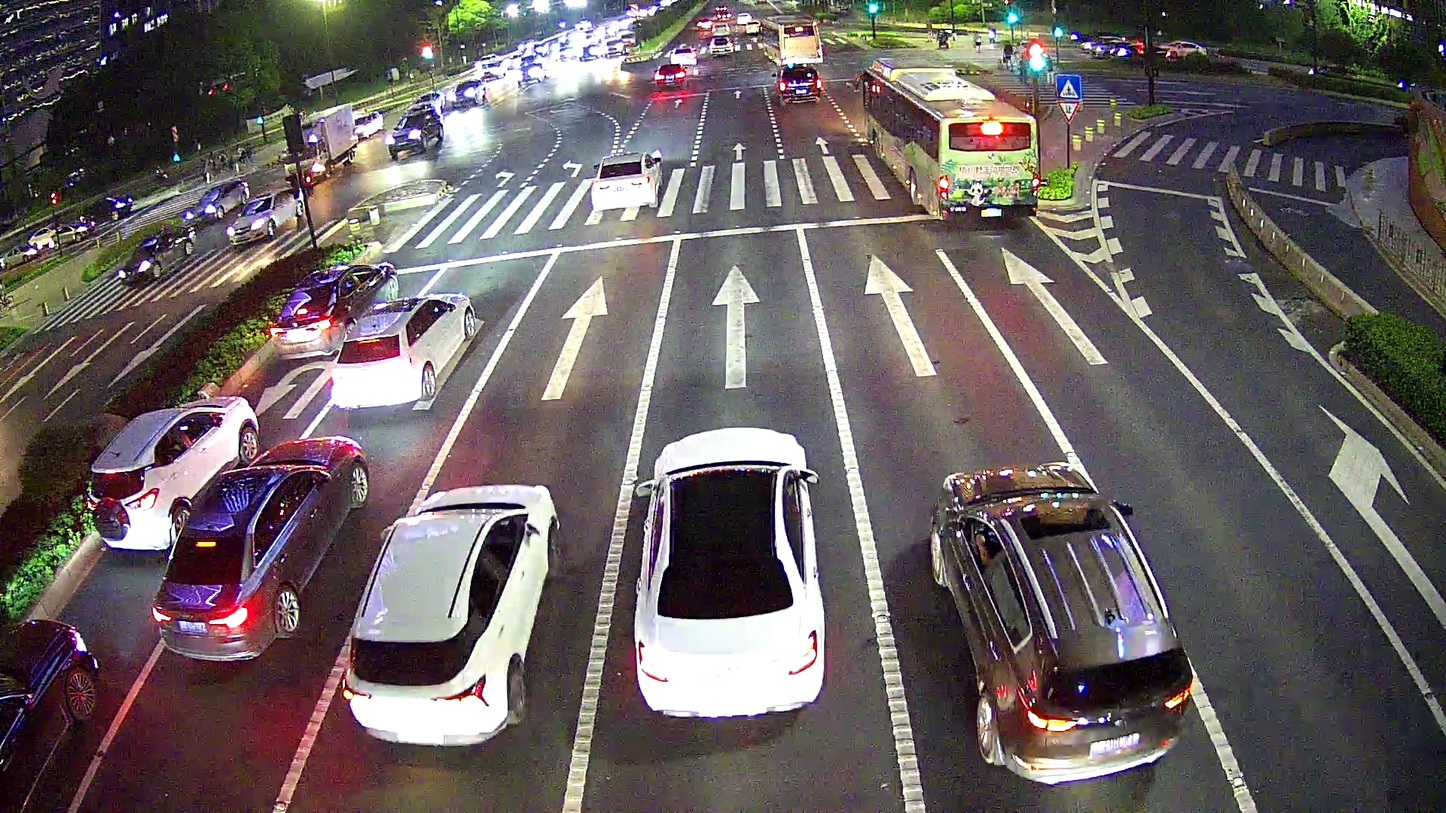vehicle: (919, 455, 1197, 787), (624, 422, 828, 723), (343, 477, 563, 748), (147, 432, 371, 666), (858, 50, 1043, 225), (81, 391, 258, 555), (329, 291, 474, 409), (268, 263, 400, 356), (224, 184, 303, 249), (117, 221, 197, 285), (588, 150, 667, 212), (383, 109, 444, 159), (771, 59, 823, 106)
